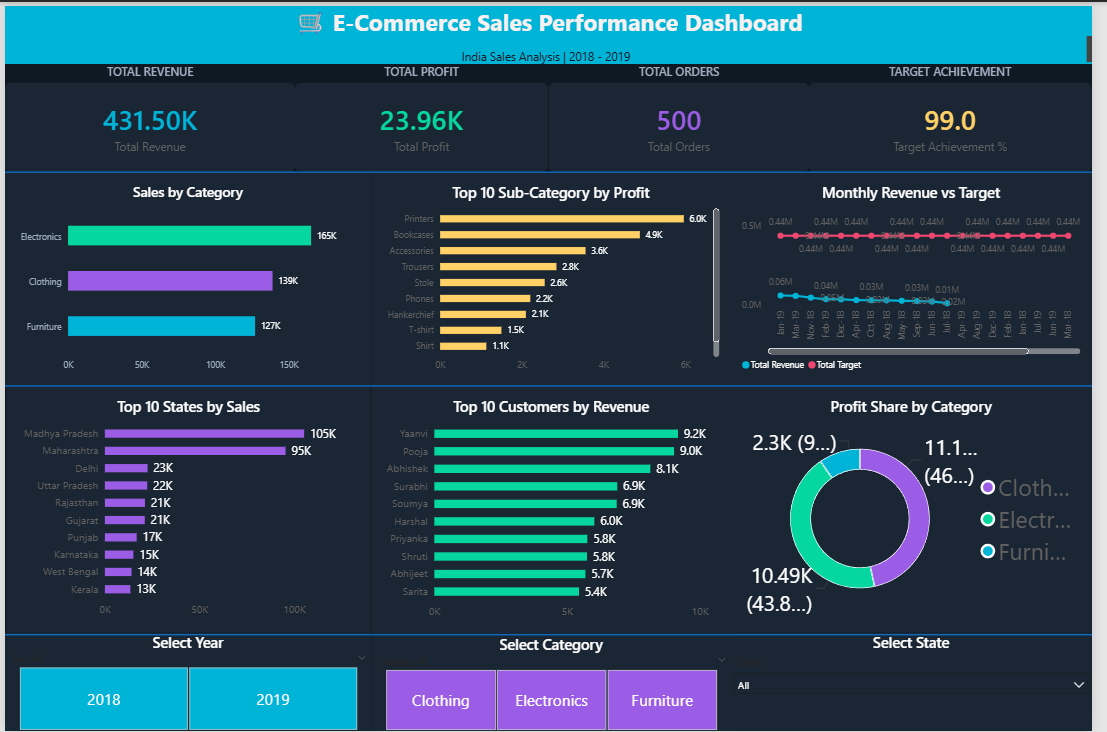

This screenshot's page, from the dashboard's own definition file:
{"tool":"powerbi","page":{"name":"Page 1","canvas":[1500,1000],"ordinal":0},"visuals":[{"type":"shape","box":[0,0,1499.7,80.1],"z":0},{"type":"textbox","box":[0,0,1499.7,80.1],"z":1000},{"type":"textbox","box":[0,40.9,1499.7,39.2],"z":2000},{"type":"cardVisual","title":"TOTAL REVENUE","fields":{"Data":["Order Details.Total Revenue"]},"box":[0,80.1,400.5,150],"z":3000},{"type":"cardVisual","title":"TOTAL PROFIT","fields":{"Data":["Order Details.Total Profit"]},"box":[400.5,80.1,349.4,150],"z":4000},{"type":"cardVisual","title":"TOTAL ORDERS","fields":{"Data":["Order Details.Total Orders"]},"box":[749.8,80.1,359.6,150],"z":5000},{"type":"cardVisual","title":"TARGET ACHIEVEMENT","fields":{"Data":["Order Details.Target Achievement %"]},"box":[1109.4,80.1,390.3,150],"z":6000},{"type":"clusteredBarChart","title":"Sales by Category","fields":{"Category":["Order Details.Category"],"Y":["Order Details.Total Revenue"]},"box":[0,230.1,504.4,294.8],"z":7000},{"type":"clusteredBarChart","title":"Top 10 Sub-Category by Profit","fields":{"Category":["Order Details.Sub-Category"],"Y":["Order Details.Total Profit"]},"box":[504.4,230.1,495.9,294.8],"z":8000},{"type":"lineChart","title":"Monthly Revenue vs Target","fields":{"Category":["Date Table.Month Name"],"Y":["Order Details.Total Revenue","Order Details.Total Target"]},"box":[1000.3,230.1,499.3,294.8],"z":9000},{"type":"clusteredBarChart","title":"Top 10 States by Sales","fields":{"Category":["Orders.State"],"Y":["Order Details.Total Revenue"]},"box":[1.7,524.9,502.7,339.1],"z":10000},{"type":"clusteredBarChart","title":"Top 10 Customers by Revenue","fields":{"Category":["Orders.Customer Name"],"Y":["Order Details.Total Revenue"]},"box":[504.4,524.9,495.9,342.5],"z":11000},{"type":"donutChart","title":"Profit Share by Category","fields":{"Category":["Order Details.Category"],"Y":["Order Details.Total Profit"]},"box":[1000.3,524.9,499.3,339.1],"z":12000},{"type":"slicer","title":"Select Year","fields":{"Values":["Date Table.Year"]},"box":[0,864,504.4,136.3],"z":13000},{"type":"slicer","title":"Select Category","fields":{"Values":["Order Details.Category"]},"box":[504.4,867.4,495.9,132.9],"z":14000},{"type":"slicer","title":"Select State","fields":{"Values":["Orders.State"]},"box":[1000.3,864,499.3,136.3],"z":15000},{"type":"shape","box":[0,223.2,1499.7,13.6],"z":16000},{"type":"shape","box":[0,518.1,1499.7,13.6],"z":17000},{"type":"shape","box":[0,860.6,1499.7,13.6],"z":18000}]}

Visuals, with their boxes in screenshot pixels (x1, y1, x2, y2), scaled from the page's 1500x1000 canvas onto the 1107x732 screenshot:
shape: left=0, top=0, right=1106, bottom=59
textbox: left=0, top=0, right=1106, bottom=59
textbox: left=0, top=30, right=1106, bottom=59
"TOTAL REVENUE" cardVisual: left=0, top=59, right=296, bottom=168
"TOTAL PROFIT" cardVisual: left=296, top=59, right=553, bottom=168
"TOTAL ORDERS" cardVisual: left=553, top=59, right=819, bottom=168
"TARGET ACHIEVEMENT" cardVisual: left=819, top=59, right=1106, bottom=168
"Sales by Category" clusteredBarChart: left=0, top=168, right=372, bottom=384
"Top 10 Sub-Category by Profit" clusteredBarChart: left=372, top=168, right=738, bottom=384
"Monthly Revenue vs Target" lineChart: left=738, top=168, right=1106, bottom=384
"Top 10 States by Sales" clusteredBarChart: left=1, top=384, right=372, bottom=632
"Top 10 Customers by Revenue" clusteredBarChart: left=372, top=384, right=738, bottom=635
"Profit Share by Category" donutChart: left=738, top=384, right=1106, bottom=632
"Select Year" slicer: left=0, top=632, right=372, bottom=731
"Select Category" slicer: left=372, top=635, right=738, bottom=731
"Select State" slicer: left=738, top=632, right=1106, bottom=731
shape: left=0, top=163, right=1106, bottom=173
shape: left=0, top=379, right=1106, bottom=389
shape: left=0, top=630, right=1106, bottom=640
